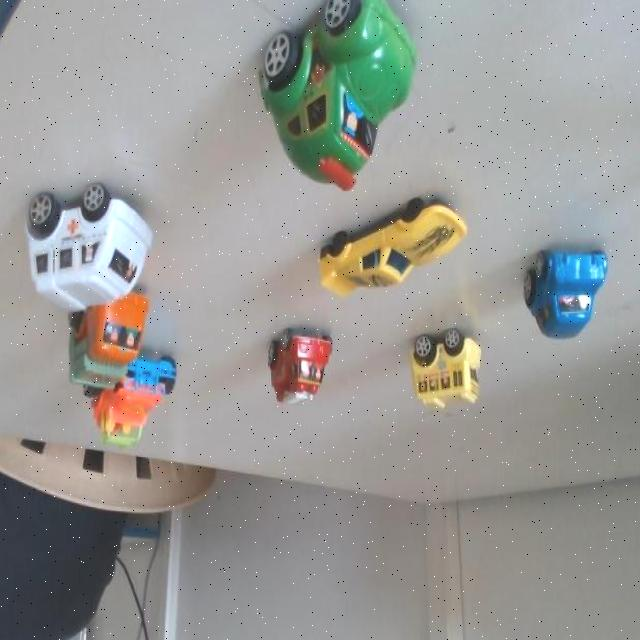car: (264, 0, 422, 185), (29, 159, 168, 331), (327, 188, 457, 308), (104, 350, 185, 453), (533, 237, 612, 341), (402, 316, 487, 412), (260, 313, 332, 417), (76, 284, 141, 398)
